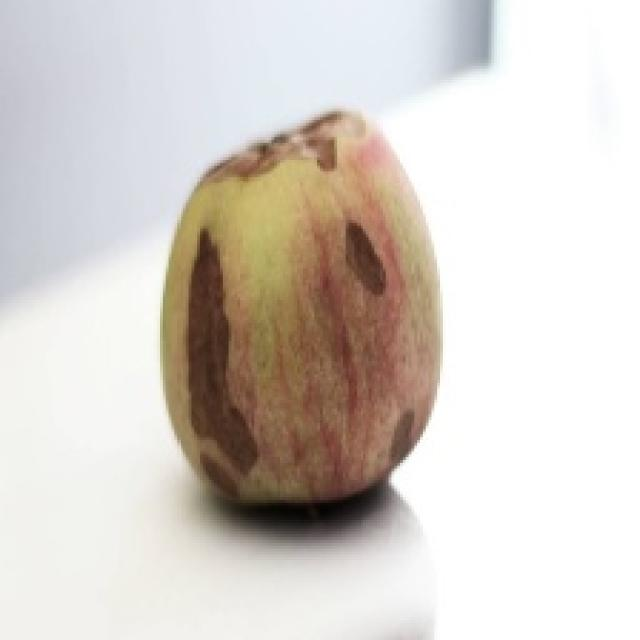rotten_apple: (167, 116, 440, 501)
